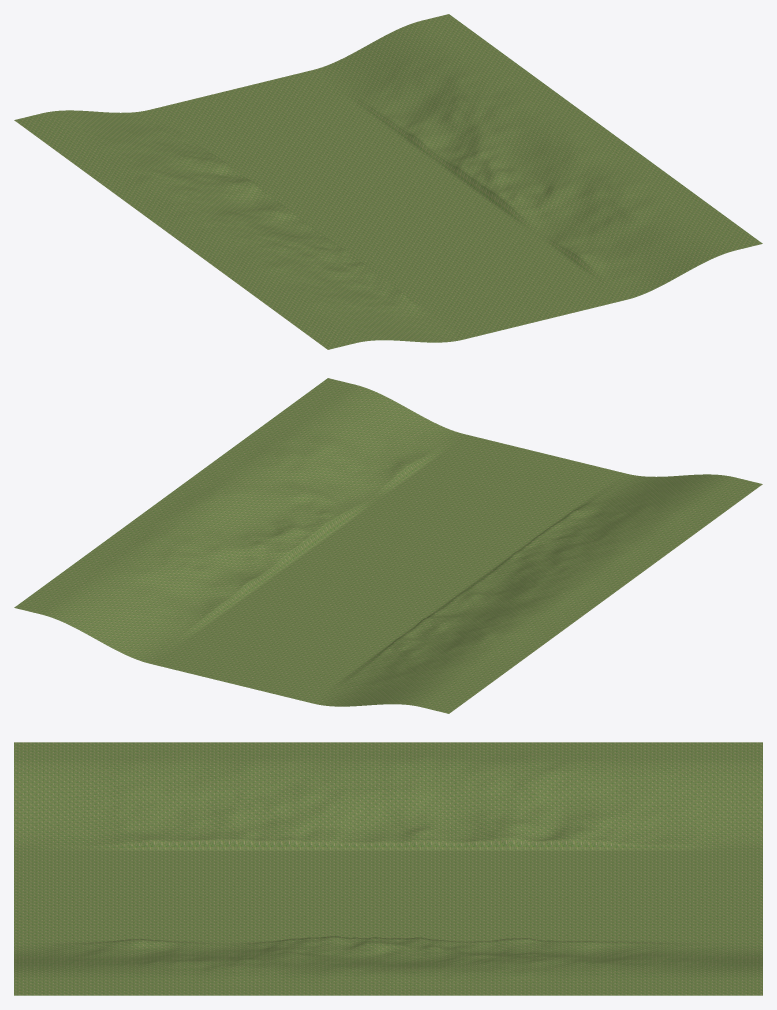
Rendered from AITerrain_Background_Mountains.obj.
3 views of the same model, one above another, from view 1: azimuth 30°, elevation 25°; view 2: azimuth 150°, elevation 25°; view 3: azimuth 270°, elevation 25° (orthographic). The views are drawn at different scales.
Parts seen in each view (by area): view 1: AITerrain_Background_Mountains; view 2: AITerrain_Background_Mountains; view 3: AITerrain_Background_Mountains.
Part boxes in pixels (x1,y1,x2,y2): AITerrain_Background_Mountains: [14, 14, 762, 349]; AITerrain_Background_Mountains: [14, 378, 762, 713]; AITerrain_Background_Mountains: [14, 742, 762, 995].
Size of the model in its own units: 8000 by 424 by 10000.
Materials: 1 (1 with a texture image).
